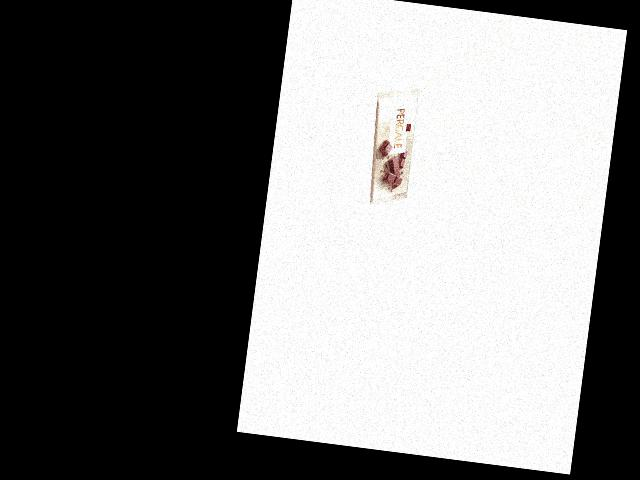chocolate: (364, 82, 420, 211)
